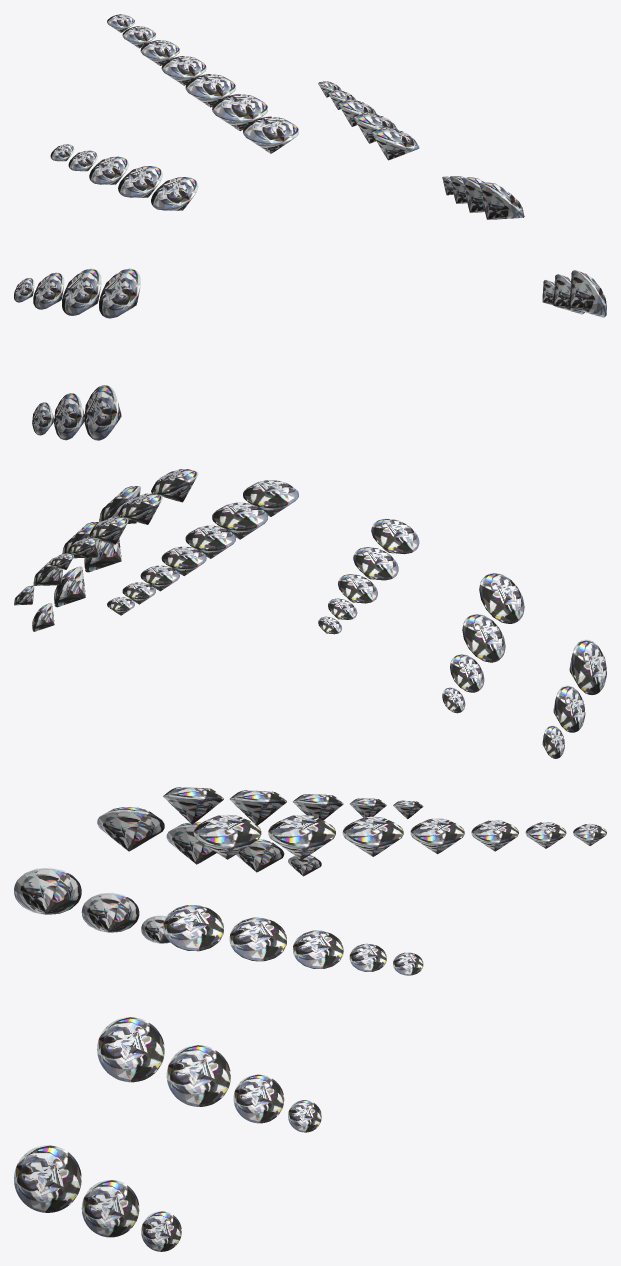
The picture shows the model from 3 angles, top to bottom: view 1: azimuth 30°, elevation 25°; view 2: azimuth 150°, elevation 25°; view 3: azimuth 270°, elevation 25°; orthographic projection. The views are drawn at different scales.
Parts seen in each view (by area): view 1: Object_20, Object_16, Object_32, Object_19, Object_31, Object_4, Object_25, Object_8, Object_30, Object_15, Object_24, Object_13 (+7 smaller); view 2: Object_20, Object_16, Object_19, Object_31, Object_32, Object_25, Object_15, Object_24, Object_30, Object_13, Object_18, Object_12 (+15 smaller); view 3: Object_4, Object_8, Object_7, Object_3, Object_16, Object_13, Object_12, Object_32, Object_31, Object_20, Object_6, Object_15 (+13 smaller).
Part boxes in pixels (x1,y1,x2,y2): Object_20: (99, 268, 140, 318); Object_16: (84, 385, 121, 440); Object_32: (243, 116, 298, 153); Object_19: (62, 268, 101, 315); Object_31: (212, 94, 267, 130); Object_4: (569, 270, 606, 317); Object_25: (151, 177, 198, 210); Object_8: (479, 182, 524, 219); Object_30: (185, 74, 235, 107); Object_15: (54, 393, 84, 440); Object_24: (118, 166, 162, 197); Object_13: (371, 127, 419, 160); Object_20: (479, 572, 524, 623); Object_16: (569, 639, 606, 694); Object_19: (462, 614, 505, 662); Object_31: (212, 502, 267, 539); Object_32: (243, 480, 298, 516); Object_25: (371, 518, 419, 554); Object_15: (553, 685, 585, 732); Object_24: (353, 547, 398, 580); Object_30: (185, 525, 235, 558); Object_13: (151, 469, 197, 502); Object_18: (450, 654, 484, 692); Object_12: (118, 493, 162, 524); Object_4: (14, 1145, 81, 1212); Object_8: (97, 1017, 164, 1082); Object_7: (166, 1045, 230, 1106); Object_3: (81, 1180, 139, 1237); Object_16: (14, 867, 81, 914); Object_13: (163, 905, 223, 951); Object_12: (229, 917, 286, 961); Object_32: (193, 814, 261, 859); Object_31: (268, 814, 335, 859); Object_20: (97, 807, 164, 851); Object_6: (233, 1074, 284, 1123); Object_15: (81, 892, 139, 932).
Size of the model in its own units: 21.7 by 17.5 by 8.95.
Materials: 1 (1 with a texture image).
